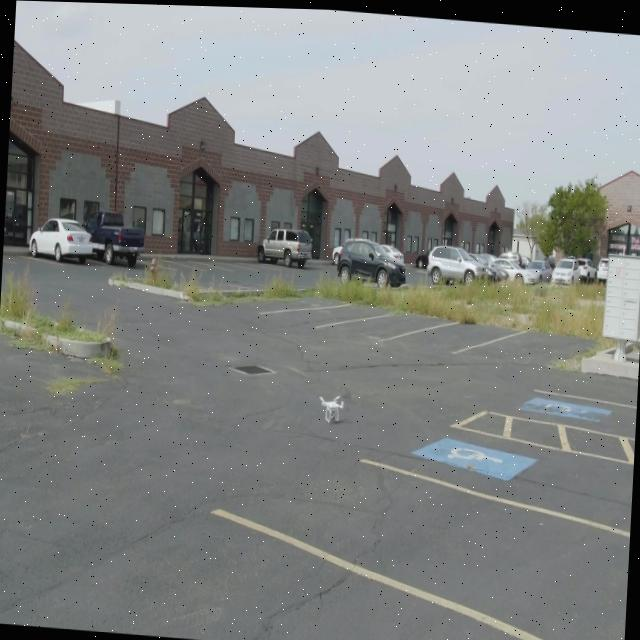drone: (316, 388, 346, 424)
